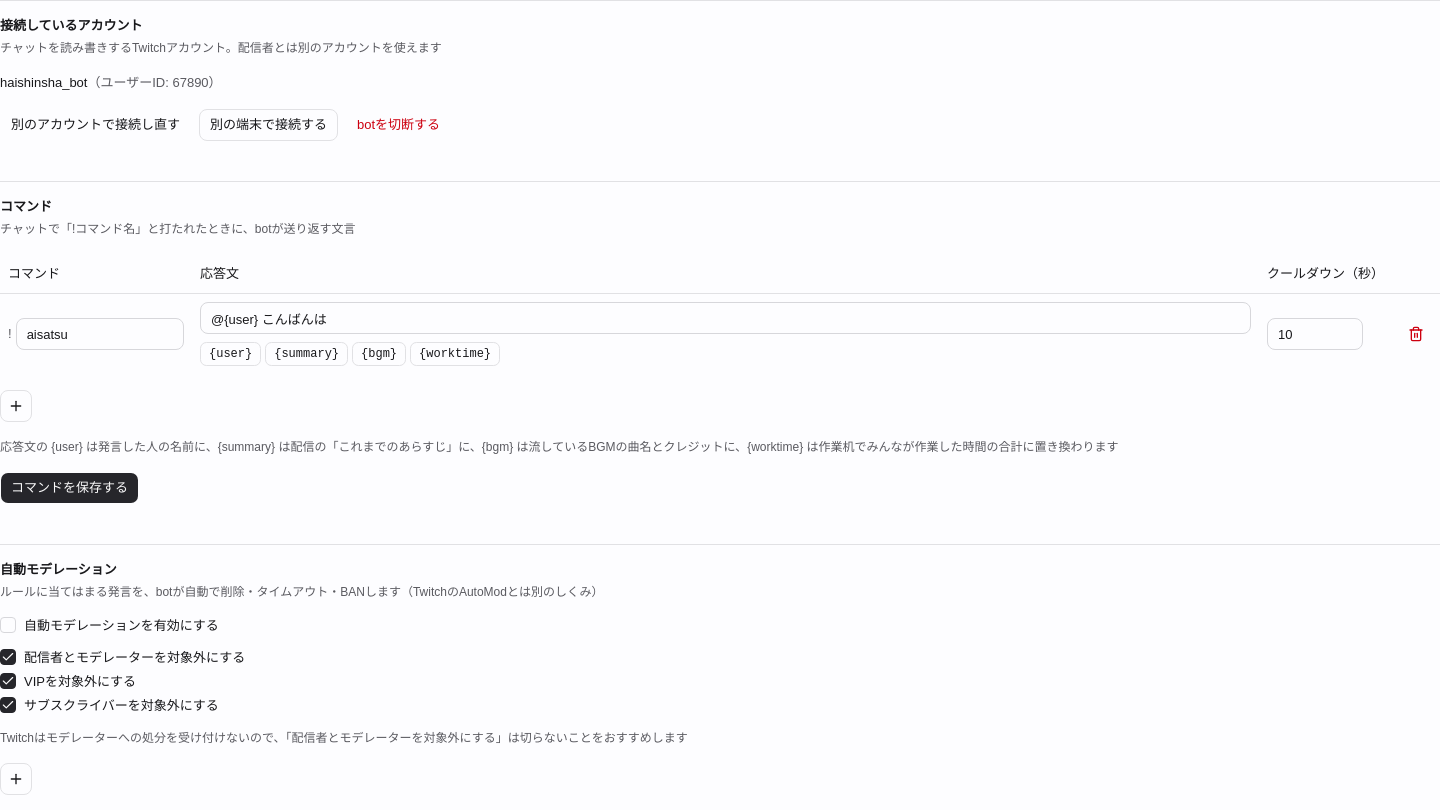
Scenario: 切断 › Twitchでの失効に失敗しても、HDADからは外れているので未接続の表示に変え、手で解除する案内を出す
This screenshot has width=1440, height=810.
Check: the text "haishinsha_bot" is shown, box x1=0 y1=75 x2=88 y2=90
Click the button "botを切断する" at x=399, y=125, box x1=346 y1=109 x2=451 y2=141
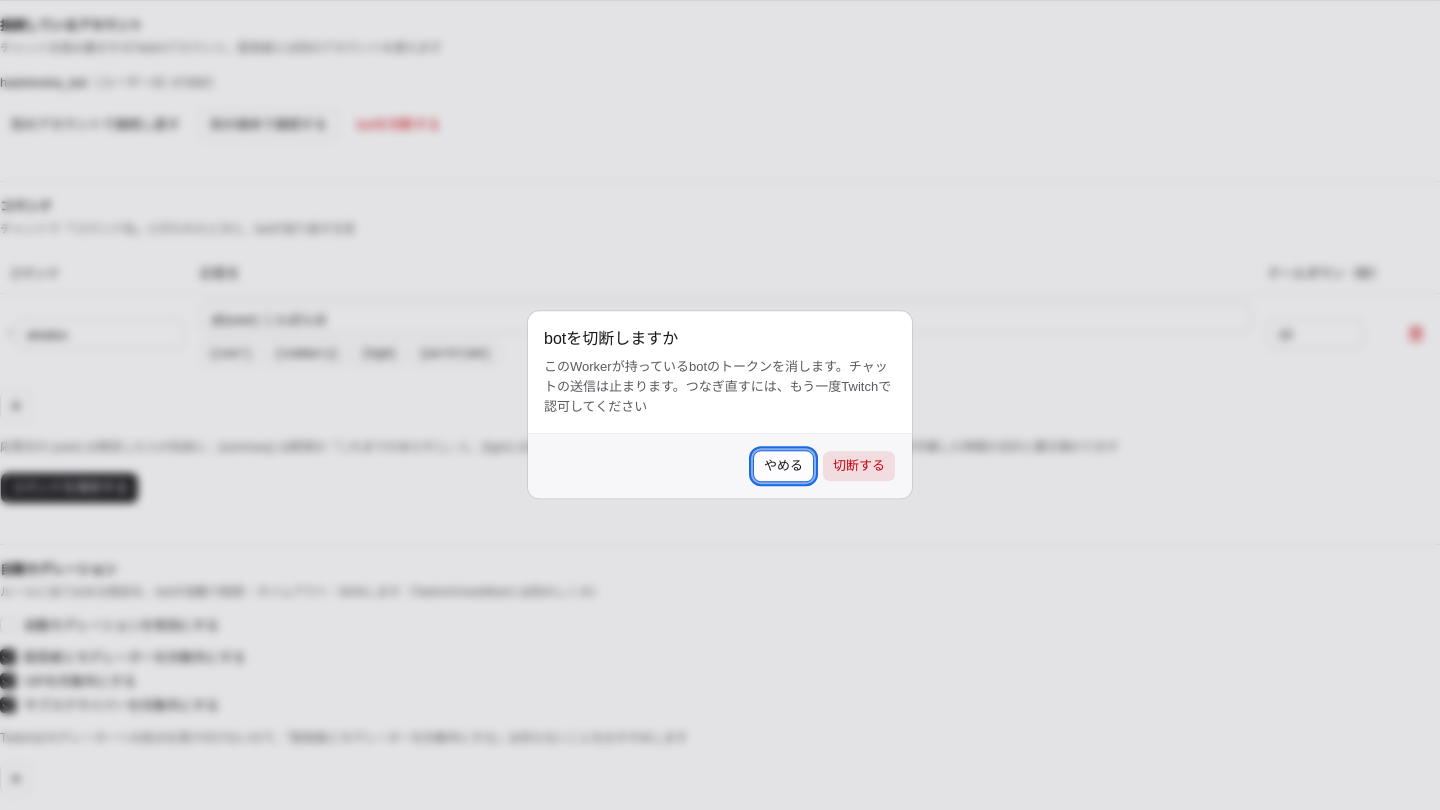
Click the button "切断する" at x=859, y=467, box x1=822 y1=451 x2=896 y2=483
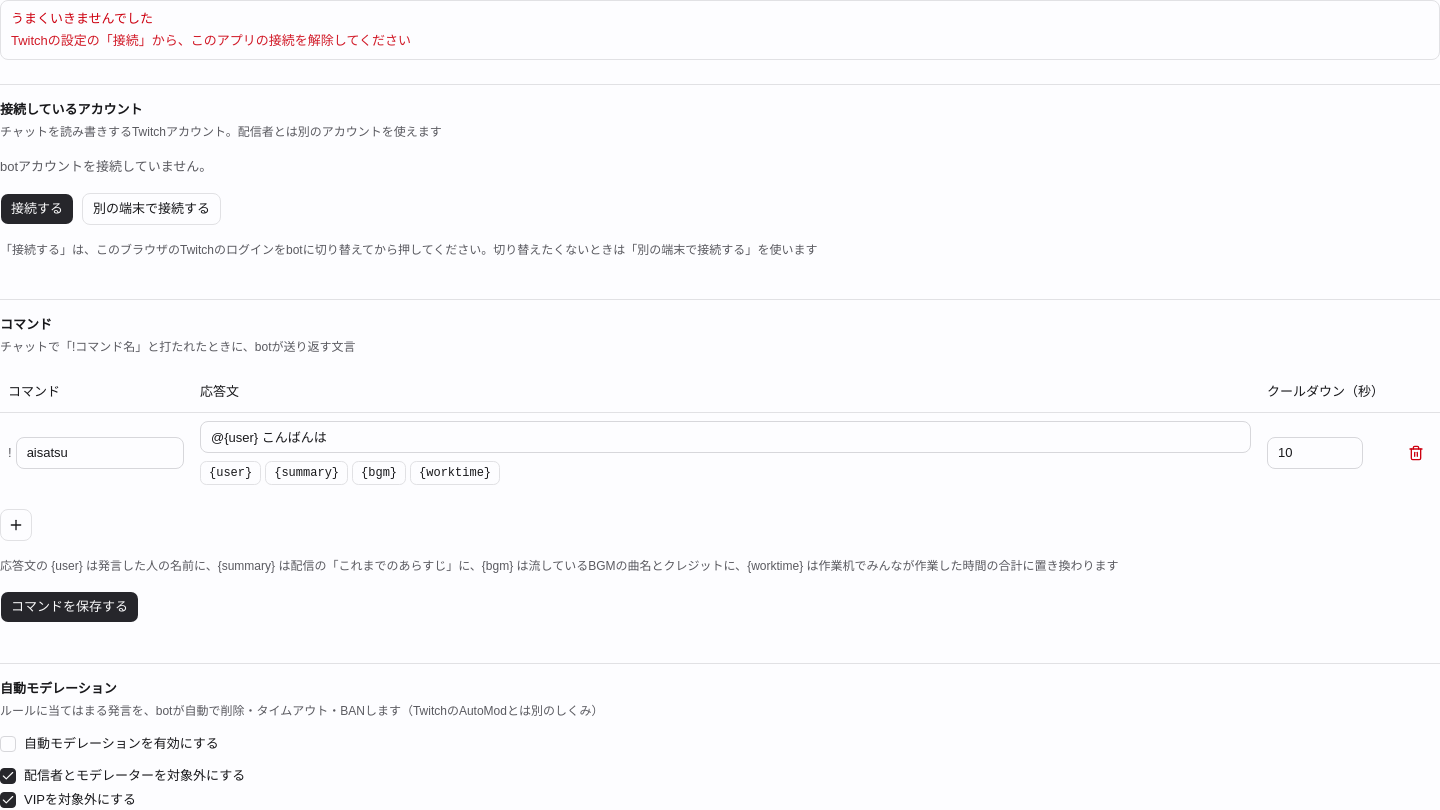
Check: the link "接続する" is shown, box x1=0 y1=193 x2=74 y2=225
Check: the text "Twitchの設定の「接続」から、このアプリの接続を解除してください" is shown, box x1=11 y1=33 x2=411 y2=48
